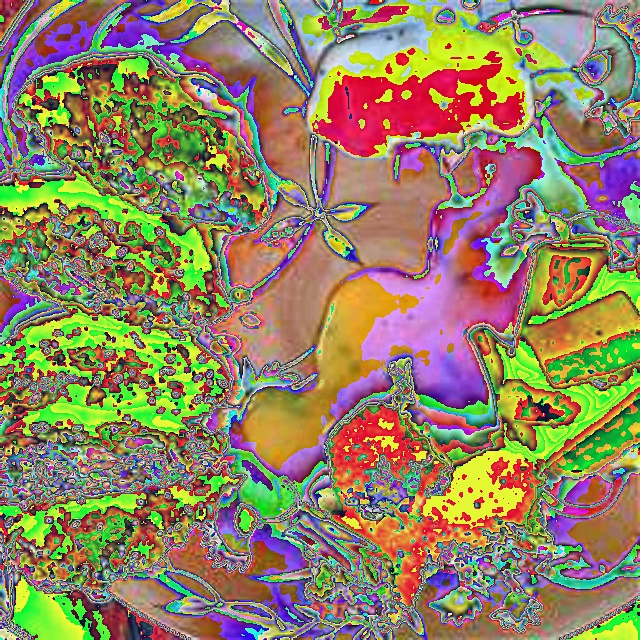background: (0, 55, 273, 604), (278, 240, 639, 637)
